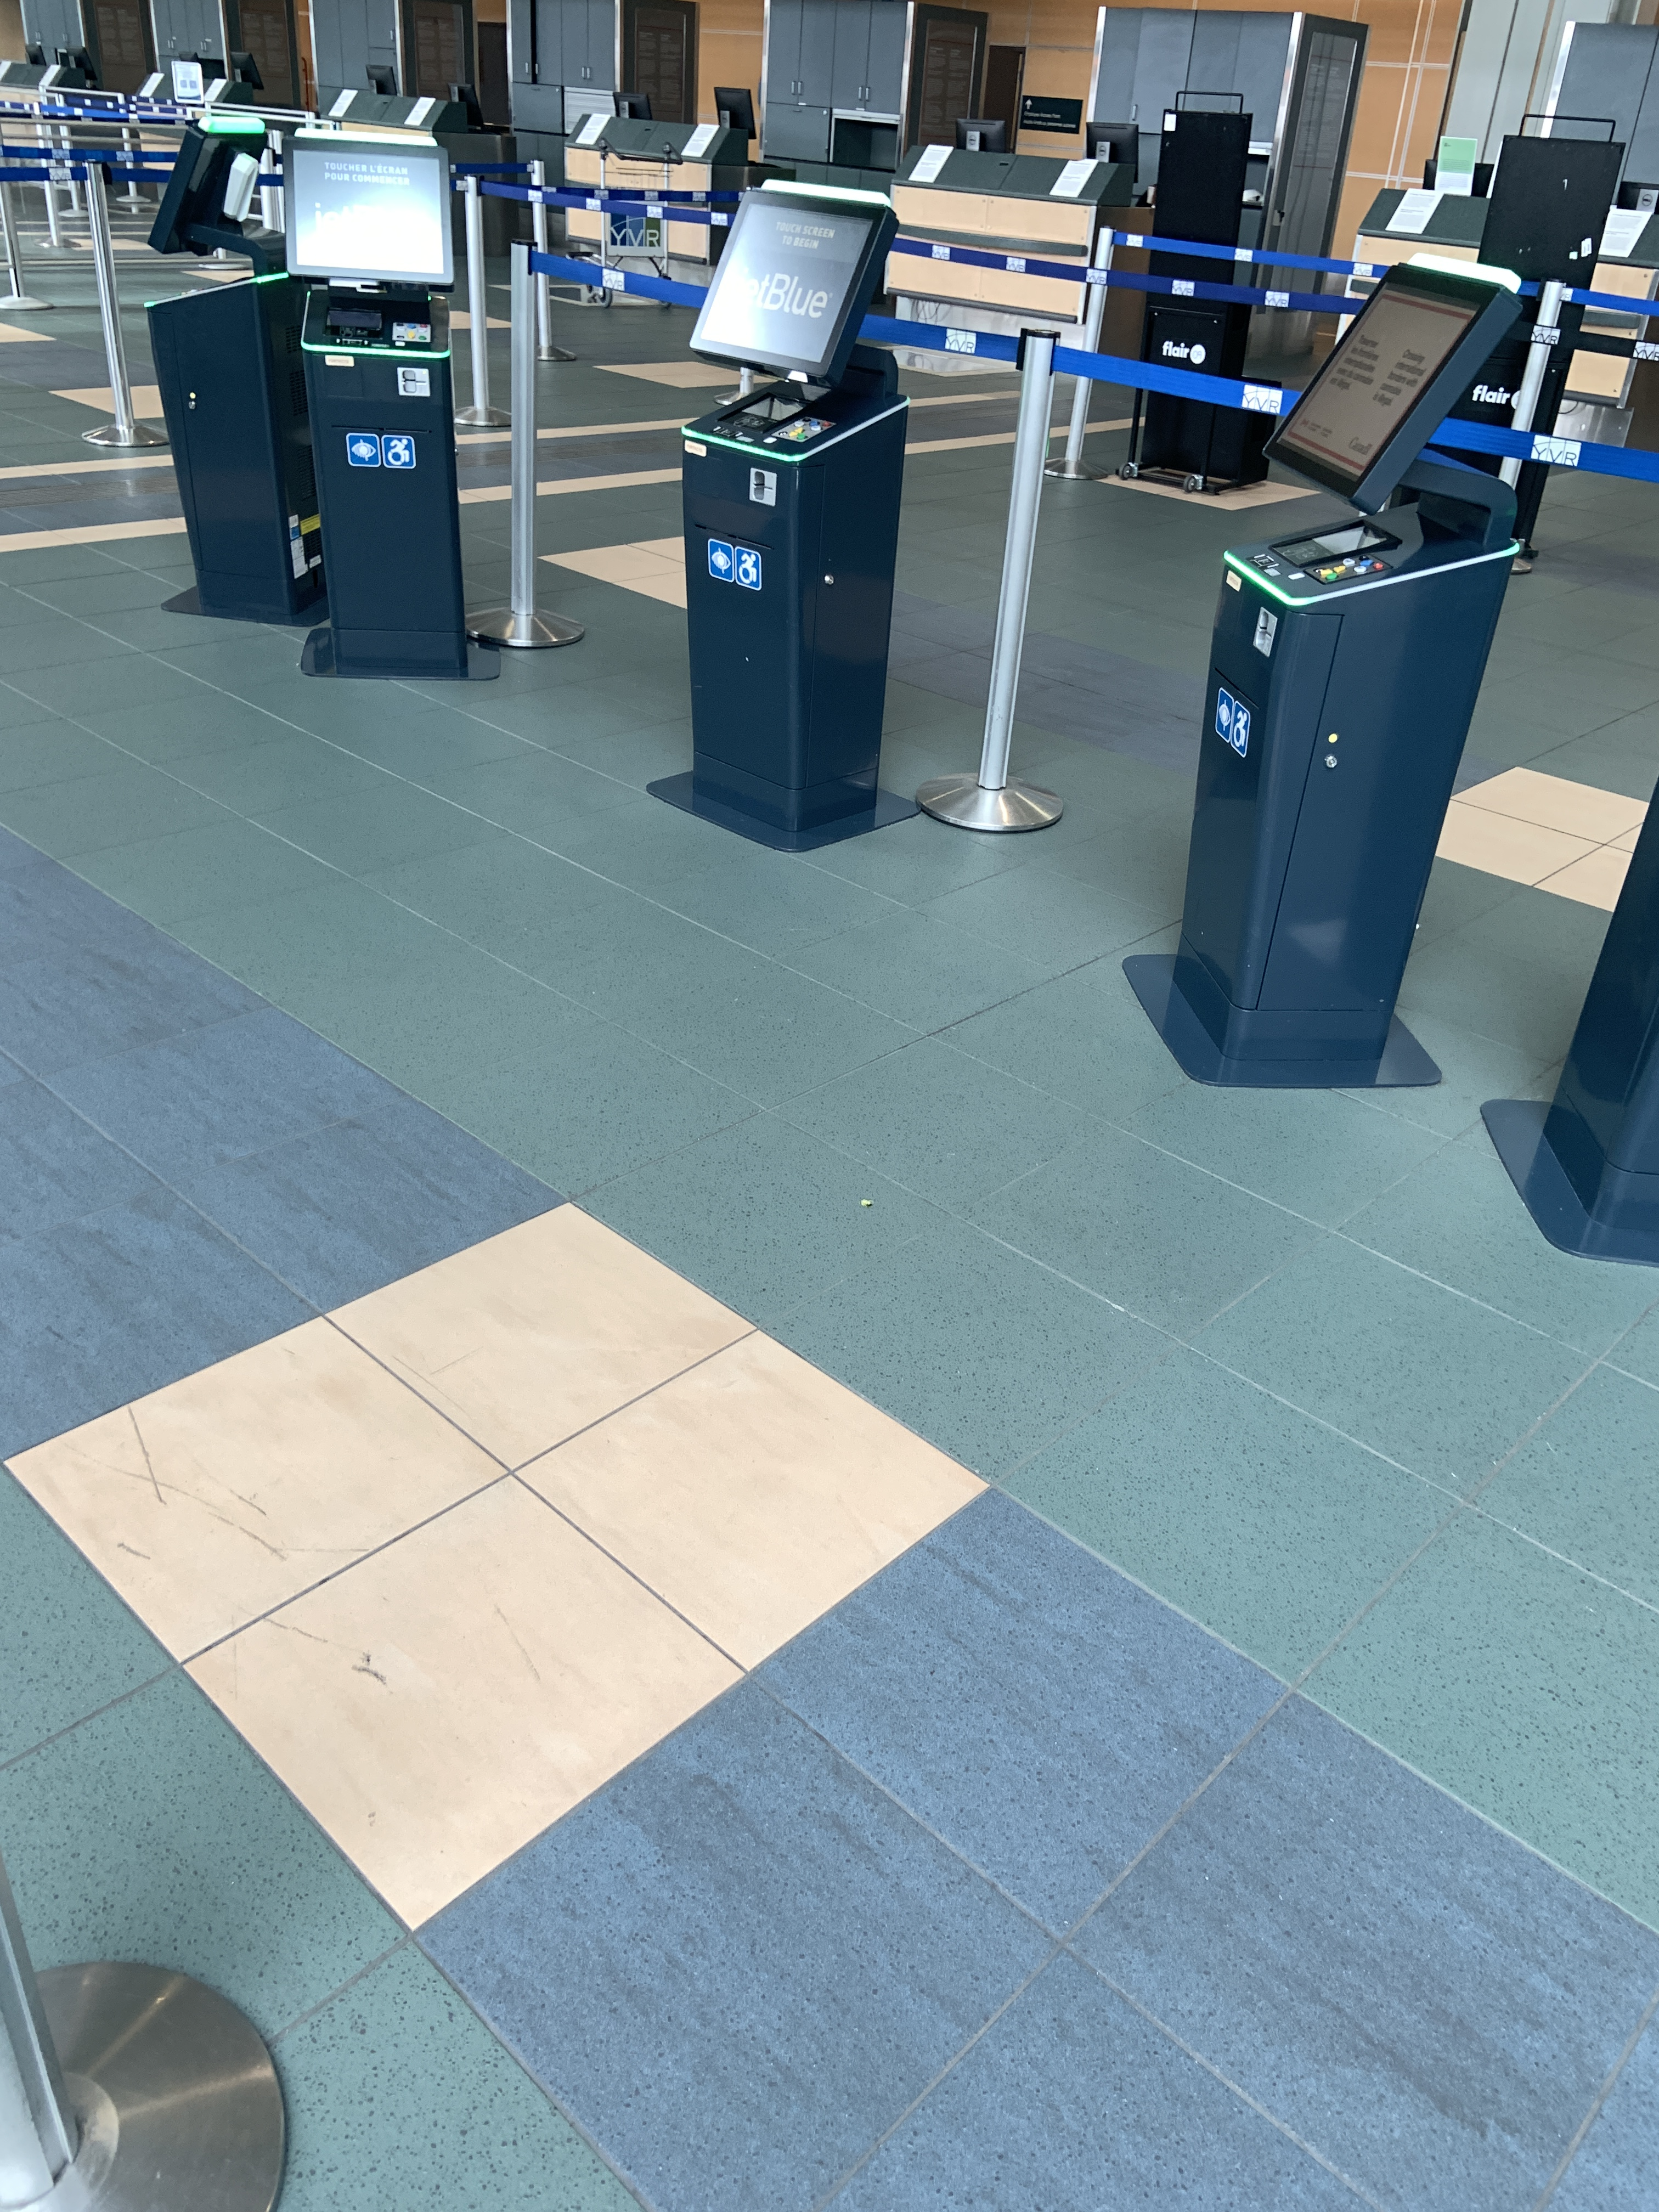Garbage: (835, 1179, 915, 1228)
Stain: (64, 1395, 460, 1707)
